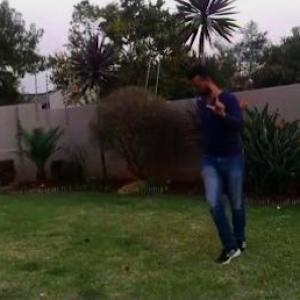land_hand: (205, 87, 231, 122)
